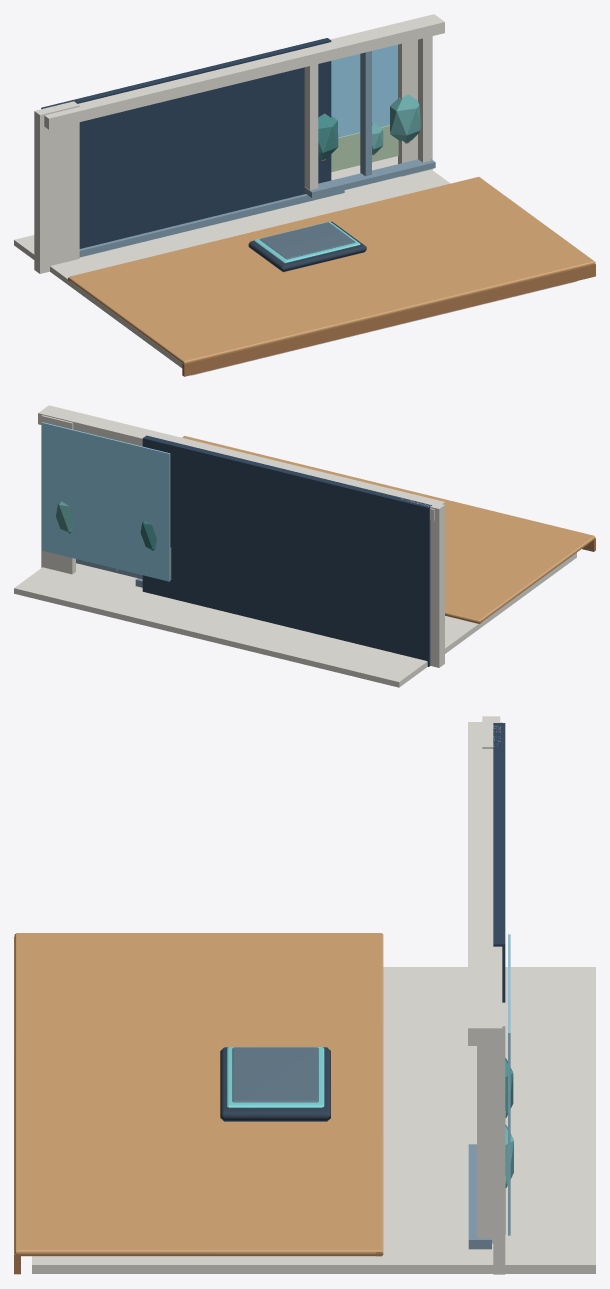
Rendered from showcase_workbench_v01.glb.
The picture shows the model from 3 angles, top to bottom: view 1: azimuth 30°, elevation 25°; view 2: azimuth 150°, elevation 25°; view 3: azimuth 270°, elevation 25°; orthographic projection. The views are drawn at different scales.
Visible parts, largest first — view 1: room_shell, preview_plinth; view 2: room_shell; view 3: room_shell, preview_plinth.
Boxes of the visible parts, left/top/right/bottom form: room_shell: left=14, top=14, right=595, bottom=376; preview_plinth: left=248, top=221, right=366, bottom=272; room_shell: left=14, top=405, right=595, bottom=687; room_shell: left=14, top=716, right=595, bottom=1274; preview_plinth: left=220, top=1047, right=330, bottom=1121.
Bounding box in the file's own units: 18.7 × 6.9 × 14.45.
1 material, 1 textured.
